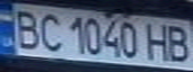0: (118, 19, 142, 60), (81, 14, 103, 56)
1: (63, 12, 87, 55)
4: (100, 17, 124, 57)
B: (9, 6, 42, 51), (163, 22, 193, 63)
C: (36, 10, 66, 52)
H: (142, 20, 172, 62)
